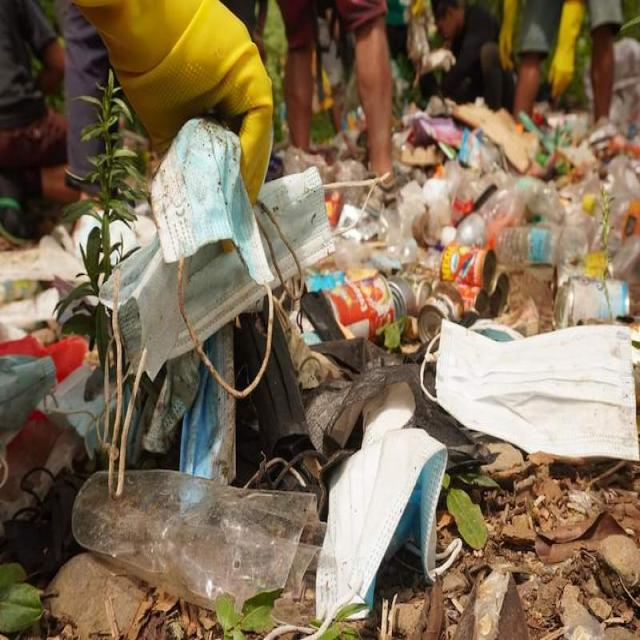non-organic waste: (103, 143, 342, 382), (419, 310, 640, 480), (292, 421, 458, 640)
